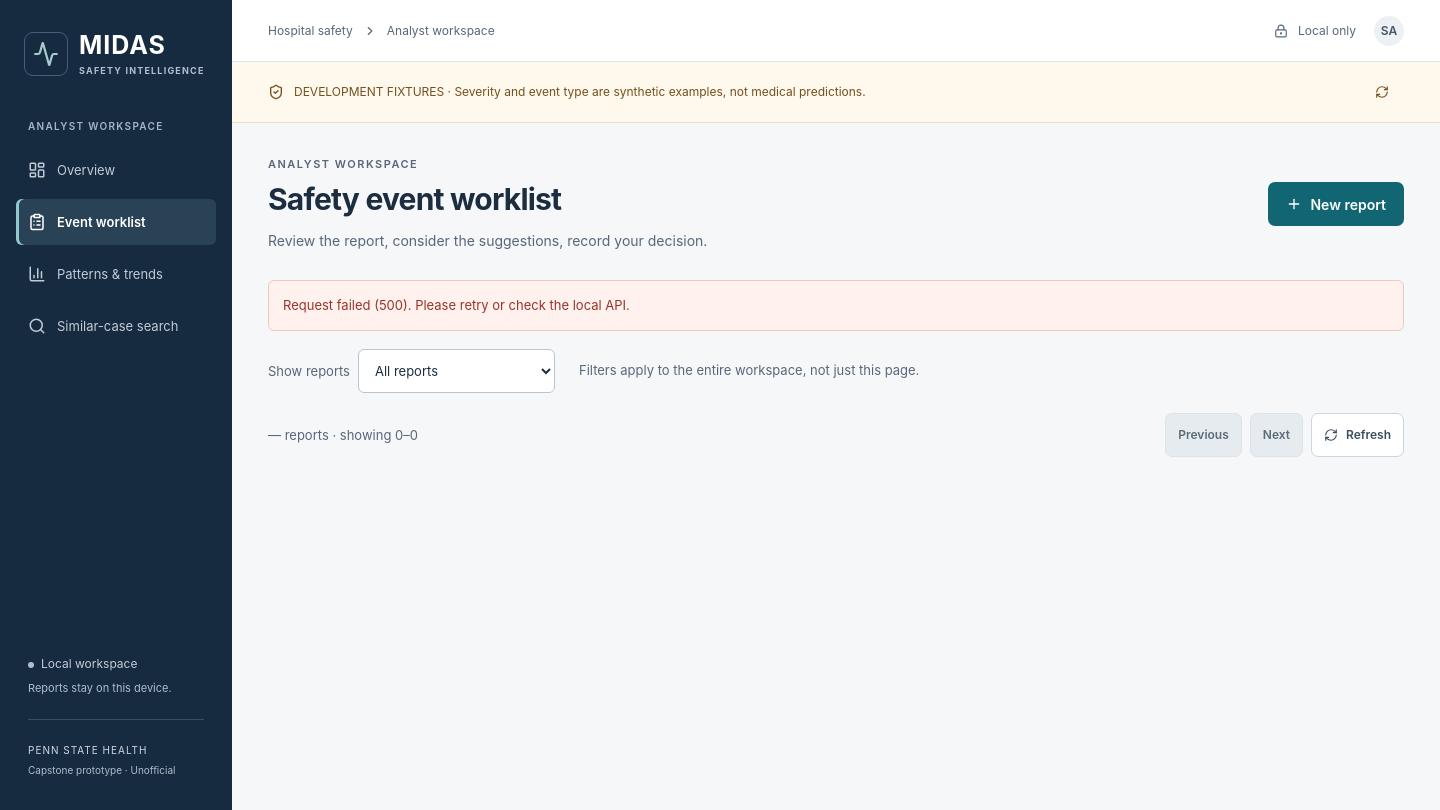
analyst UX regression checks › shows a useful API error and recovers through Refresh
Expected: the message "Request failed (500). Please retry or check the local API." is shown, [268, 280, 1404, 331]
Click the button "Refresh".
click(1358, 435)  # box [1311, 413, 1404, 457]
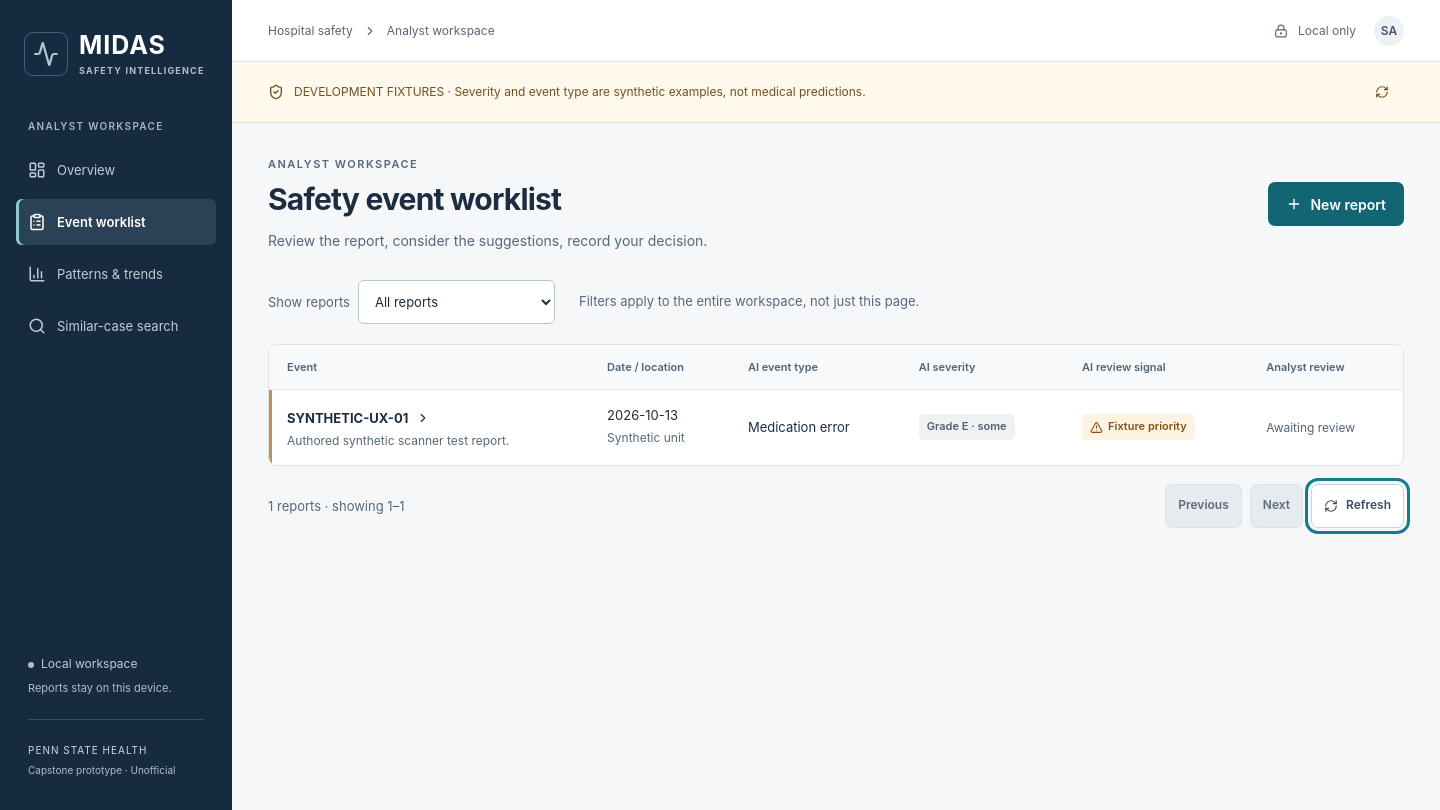
Now the link "SYNTHETIC-UX-01" is shown, box [287, 407, 430, 429]
Now the message "Request failed (500). Please retry or check the local API." is gone
